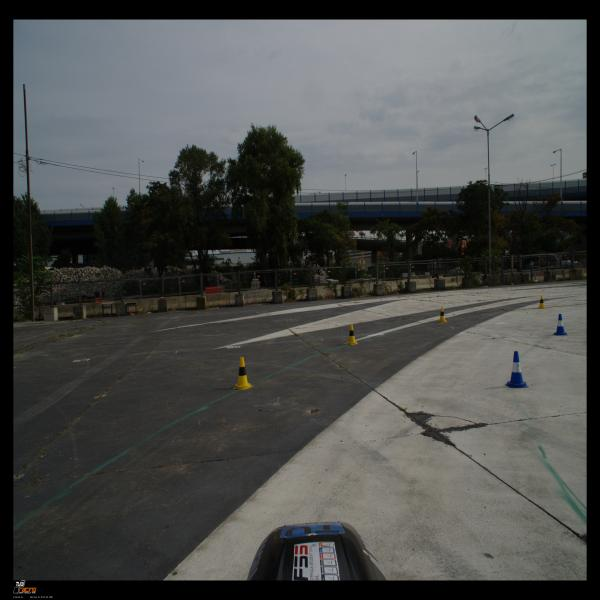blue_cone: (505, 351, 529, 388), (553, 314, 568, 335)
yellow_cone: (233, 357, 253, 390), (345, 324, 359, 345), (437, 307, 448, 322), (538, 295, 546, 309)
